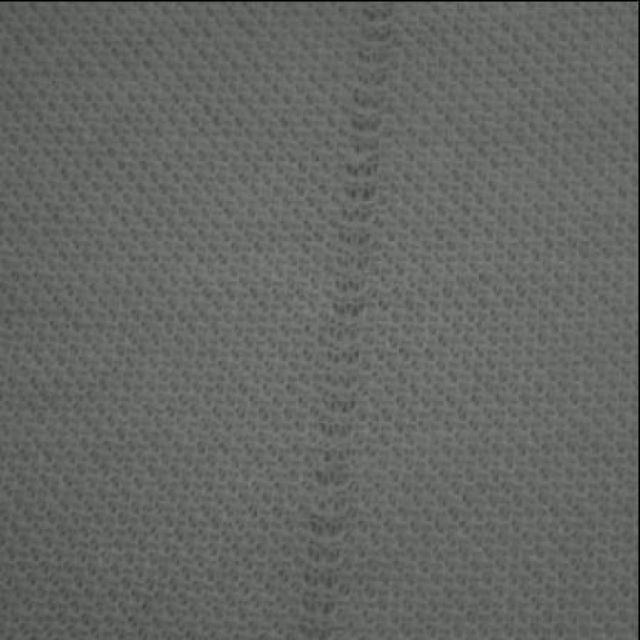Line: (298, 2, 396, 640)
